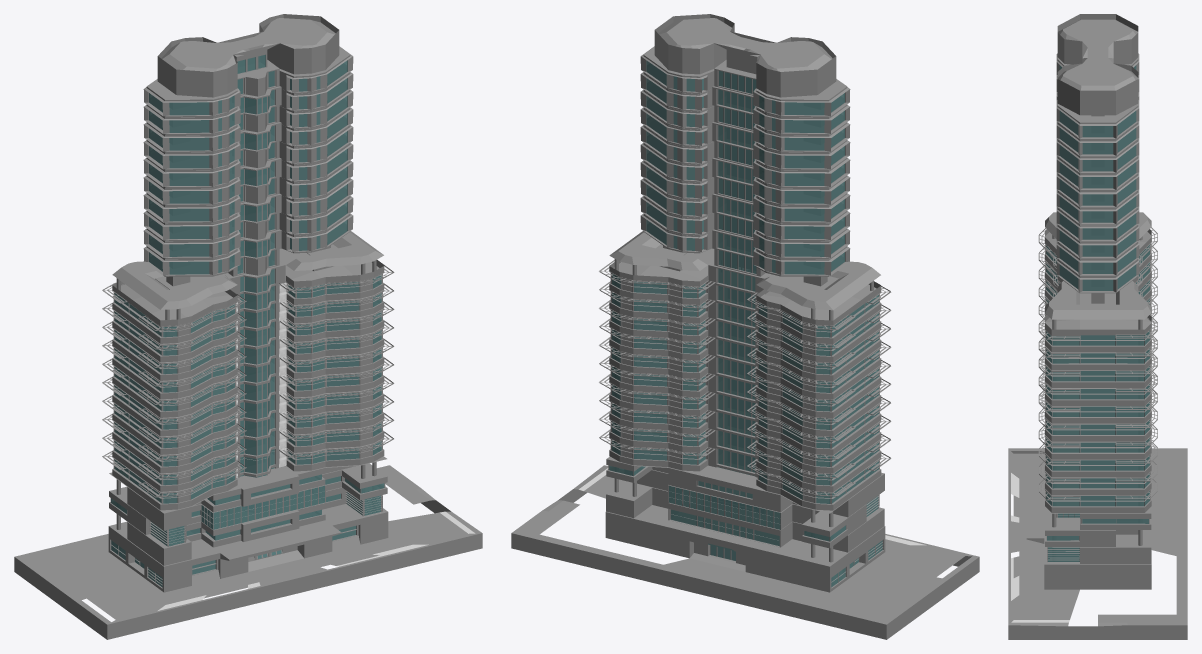
The model's file is commercial_building_concept.glb.
3 views of the same model, side by side, from view 1: azimuth 30°, elevation 25°; view 2: azimuth 150°, elevation 25°; view 3: azimuth 270°, elevation 25° (orthographic). The views are drawn at different scales.
Parts seen in each view (by area): view 1: Object_13, Object_8, Object_11, Object_10, Object_5, Object_12, Object_9, Object_6, Object_2, Object_7, Object_3; view 2: Object_13, Object_8, Object_11, Object_10, Object_5, Object_12, Object_9, Object_6, Object_7; view 3: Object_8, Object_13, Object_11, Object_10, Object_5, Object_12, Object_9, Object_3, Object_7.
Part boxes in pixels (left/top/right/bottom): Object_13: left=111, top=55, right=384, bottom=587; Object_8: left=14, top=451, right=482, bottom=639; Object_11: left=102, top=260, right=394, bottom=510; Object_10: left=143, top=46, right=353, bottom=276; Object_5: left=157, top=14, right=339, bottom=477; Object_12: left=102, top=340, right=394, bottom=478; Object_9: left=112, top=231, right=384, bottom=326; Object_6: left=223, top=60, right=285, bottom=295; Object_2: left=236, top=282, right=286, bottom=477; Object_7: left=116, top=50, right=376, bottom=529; Object_3: left=158, top=511, right=475, bottom=610; Object_13: left=609, top=60, right=882, bottom=587; Object_8: left=511, top=456, right=979, bottom=639; Object_11: left=599, top=260, right=891, bottom=510; Object_10: left=640, top=46, right=850, bottom=276; Object_5: left=654, top=14, right=836, bottom=477; Object_12: left=599, top=337, right=891, bottom=477; Object_9: left=609, top=231, right=881, bottom=326; Object_6: left=708, top=60, right=770, bottom=294; Object_7: left=614, top=50, right=873, bottom=562; Object_8: left=1008, top=448, right=1187, bottom=639; Object_13: left=1046, top=65, right=1149, bottom=561; Object_11: left=1038, top=227, right=1157, bottom=512; Object_10: left=1056, top=53, right=1139, bottom=293; Object_5: left=1057, top=14, right=1138, bottom=115; Object_12: left=1038, top=282, right=1157, bottom=495; Object_9: left=1045, top=115, right=1151, bottom=335; Object_3: left=1011, top=473, right=1069, bottom=622; Object_7: left=1052, top=235, right=1142, bottom=545.
Size of what is drawn, in the model's own units: 66.91 by 88.1 by 28.67.
